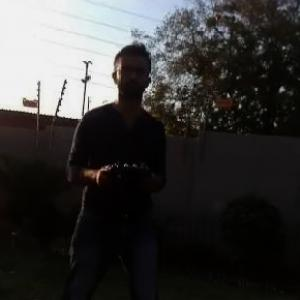follow: (57, 37, 171, 299)
